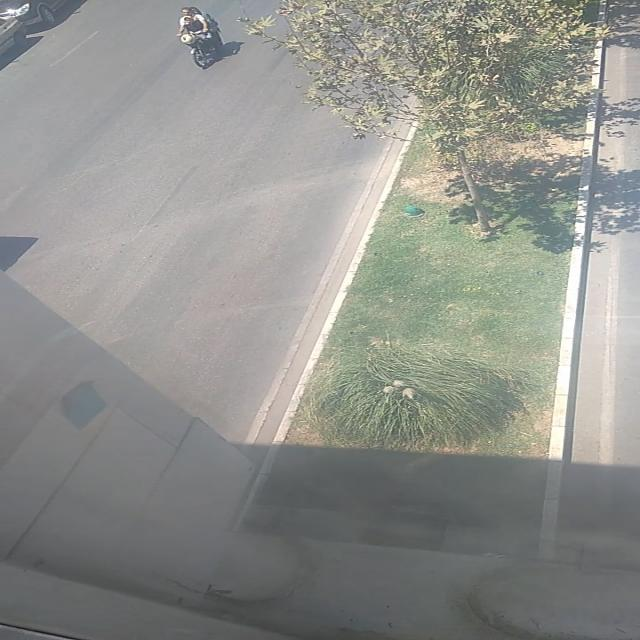motor: (180, 7, 218, 69)
